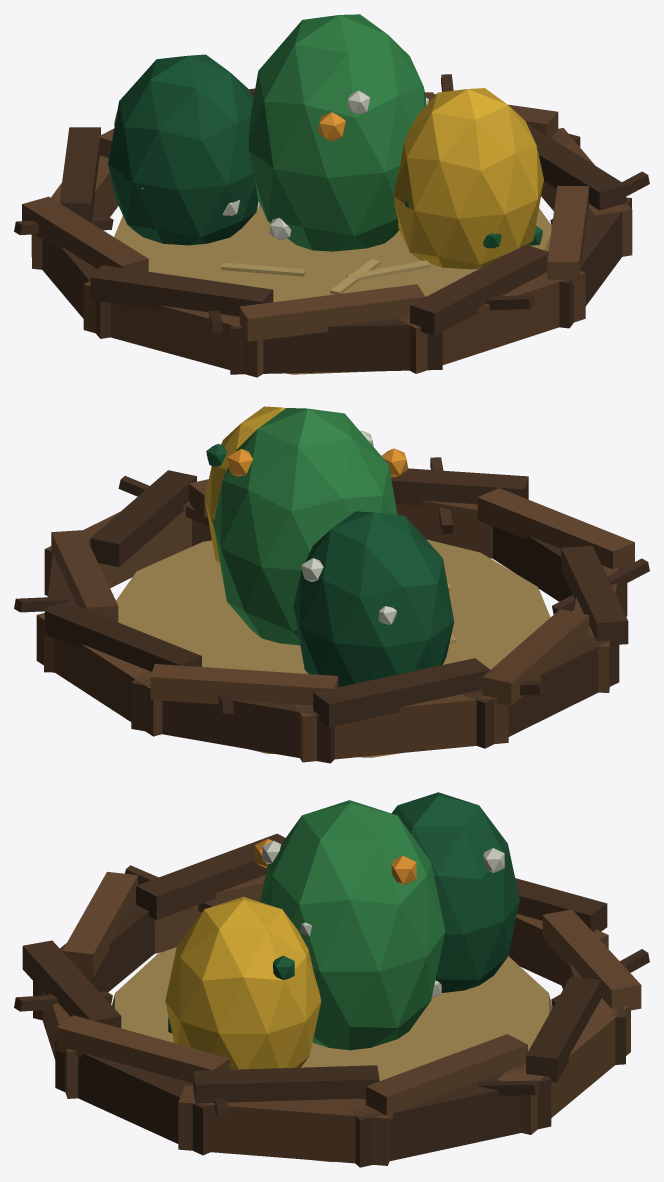
Rendered from Decor_DragonLair_Hatchery.fbx.
3 renders of one model, top to bottom at view 1: azimuth 30°, elevation 25°; view 2: azimuth 150°, elevation 25°; view 3: azimuth 270°, elevation 25°, orthographic. The views are drawn at different scales.
Visible parts, largest first — view 1: Hatchery_Body; view 2: Hatchery_Body; view 3: Hatchery_Body.
Boxes of the visible parts, bbox=[...] form: Hatchery_Body: bbox=[14, 14, 649, 377]; Hatchery_Body: bbox=[14, 406, 649, 763]; Hatchery_Body: bbox=[14, 792, 649, 1167].
Bounding box in the file's own units: 17.07 × 7.8 × 17.07.
